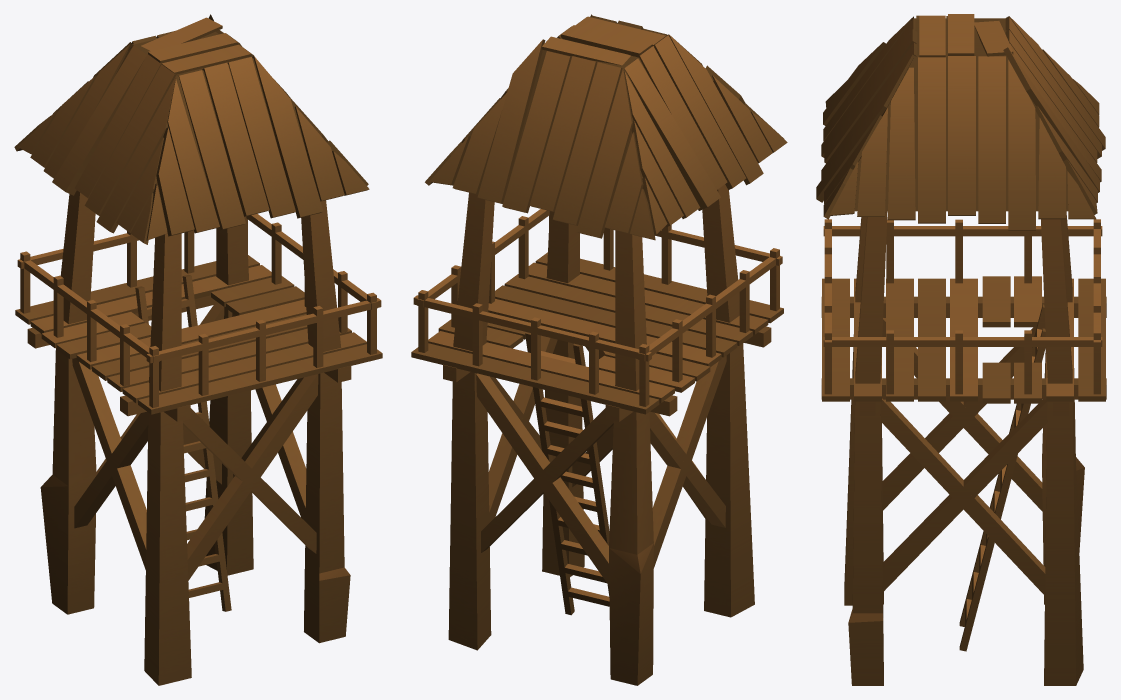
Rendered from Outpost.fbx.
3 views of the same model, side by side, from view 1: azimuth 30°, elevation 25°; view 2: azimuth 150°, elevation 25°; view 3: azimuth 270°, elevation 25° (orthographic). The views are drawn at different scales.
Visible parts, largest first — view 1: polySurface3; view 2: polySurface3; view 3: polySurface3.
Boxes of the visible parts, left/top/right/bottom form: polySurface3: left=14, top=14, right=382, bottom=685; polySurface3: left=411, top=14, right=787, bottom=685; polySurface3: left=816, top=14, right=1106, bottom=685.
Bounding box in the file's own units: 6.05 × 13.64 × 5.91.
Materials: 1 (1 with a texture image).
